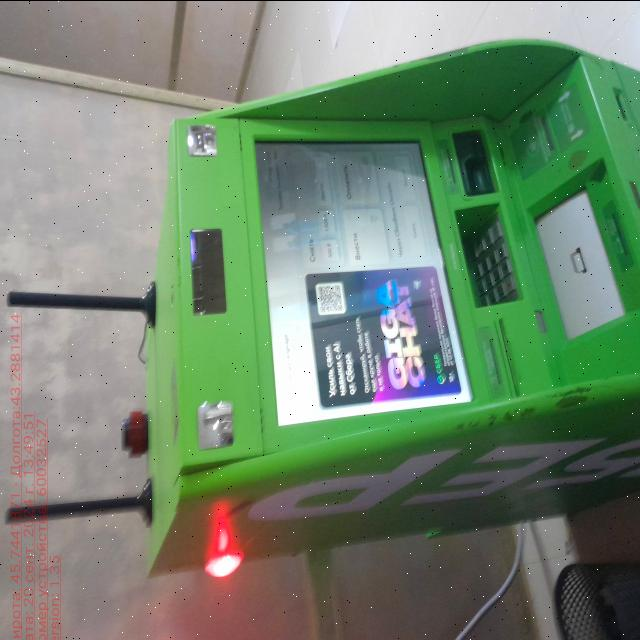bank: (143, 31, 640, 588)
